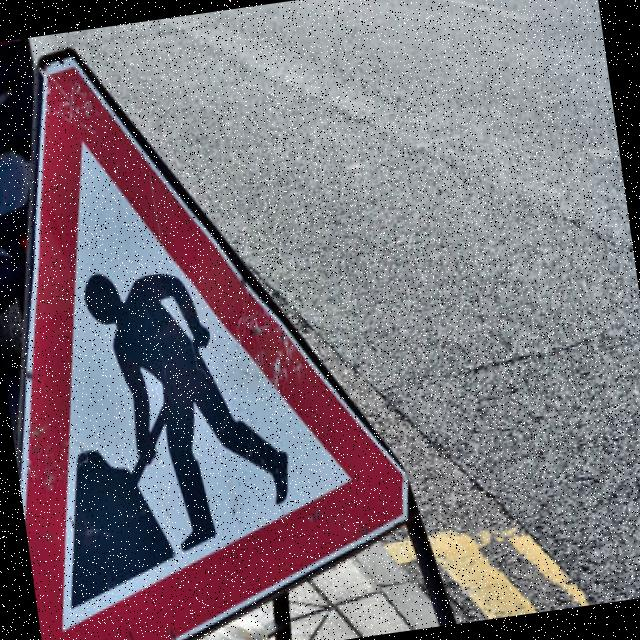road_work: (0, 20, 430, 640)
